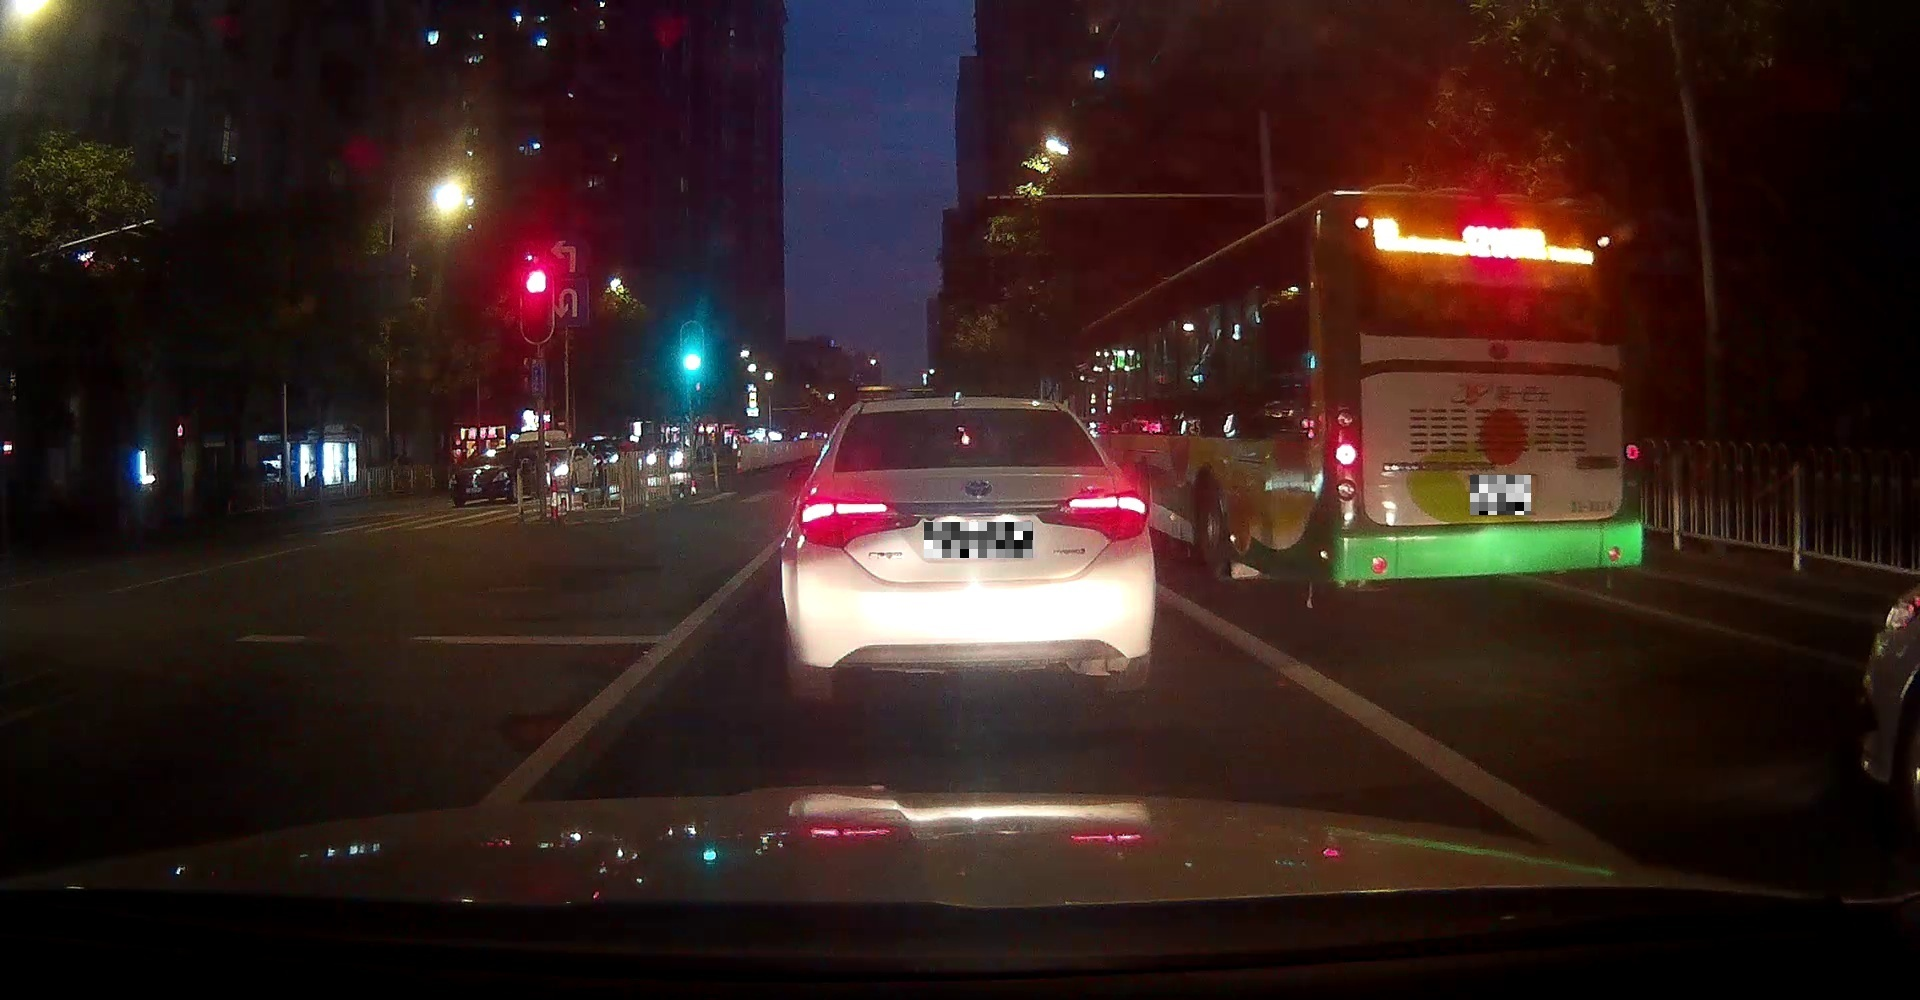L_light: (795, 492, 895, 547), (1332, 414, 1361, 504)
R_light: (1040, 489, 1150, 538), (1623, 419, 1643, 466)
T_light: (1467, 255, 1517, 274), (946, 457, 990, 466)
night-no: (1330, 187, 1643, 586), (780, 391, 1153, 695)
plate_1: (924, 522, 1032, 558)
plate_2: (1470, 475, 1531, 515)
